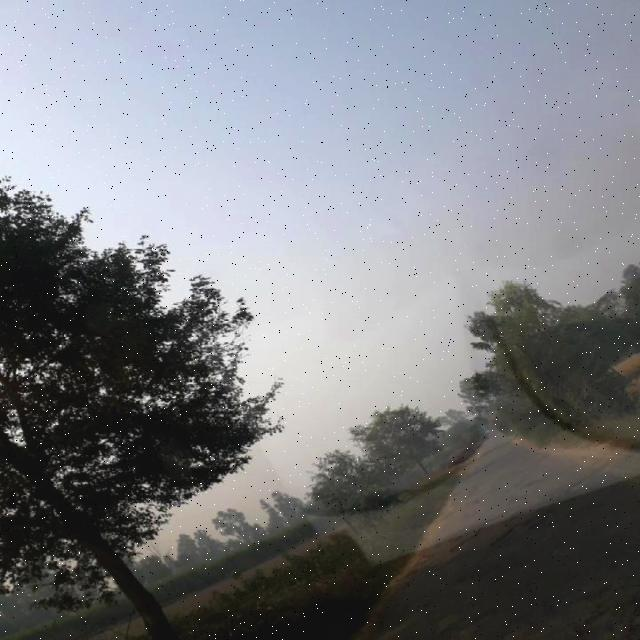D40: (567, 463, 626, 503), (498, 505, 556, 545), (582, 599, 640, 639), (433, 518, 491, 558)
